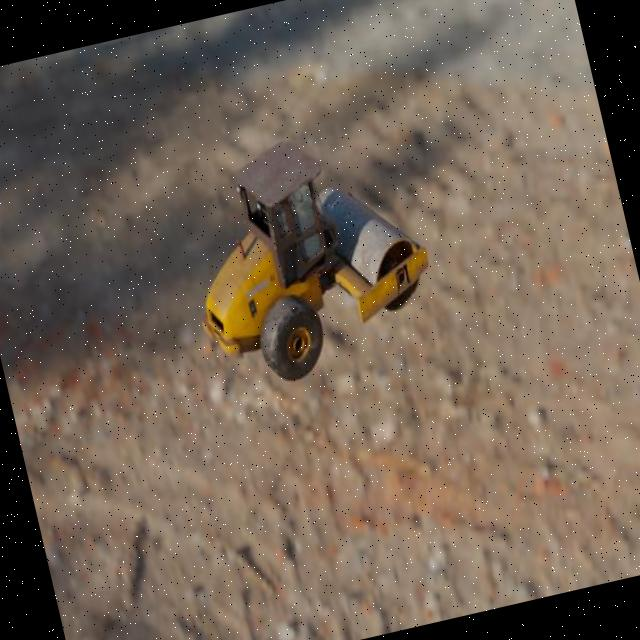Roller: (164, 114, 448, 398)
